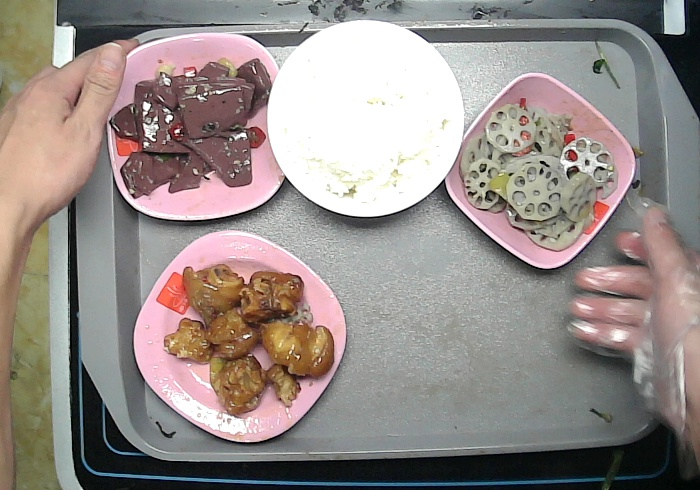SHKJ-Fan_Wan: (267, 19, 463, 216)
SHKJ-Fen_Se_Cai_Die: (106, 33, 284, 220)
SHKJ-Fen_Se_Si_Fang_Cai_Die: (133, 230, 346, 441)
SHKJ-Fen_Se_Xiao_Fang_Die: (445, 72, 638, 271)
